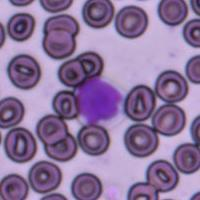M: (74, 75, 127, 127)
